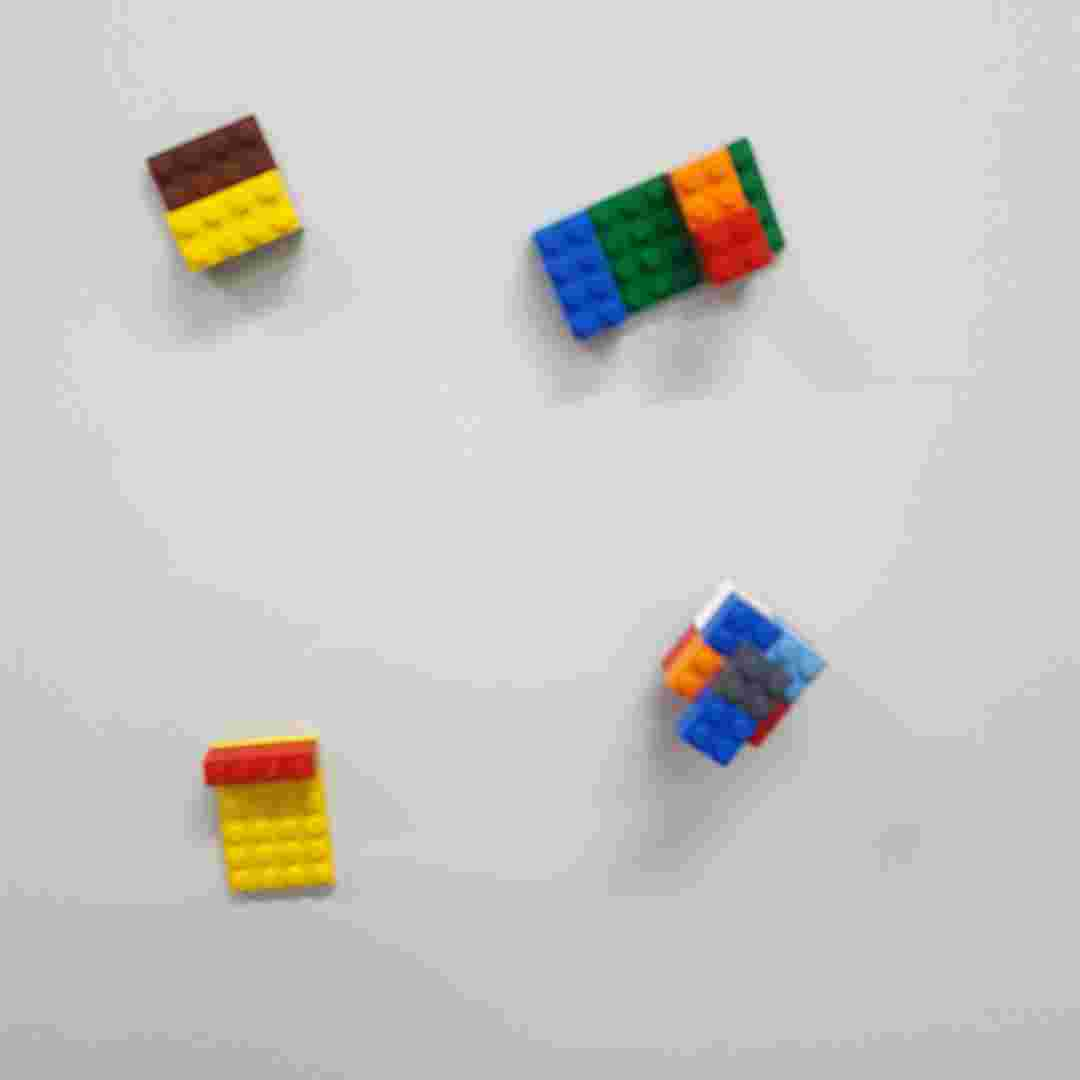LEGO: (526, 138, 786, 338), (642, 576, 832, 765), (138, 108, 310, 276), (201, 734, 339, 902)
